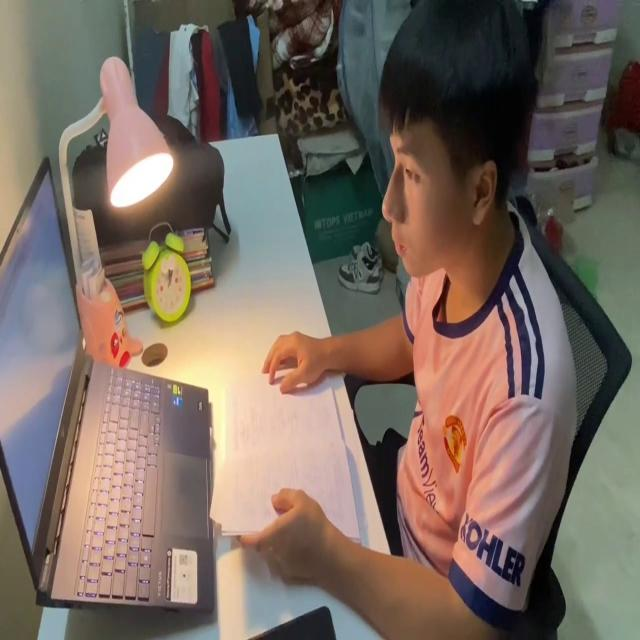book: (209, 356, 356, 553)
laptop: (0, 152, 218, 619)
student: (231, 0, 576, 640)
